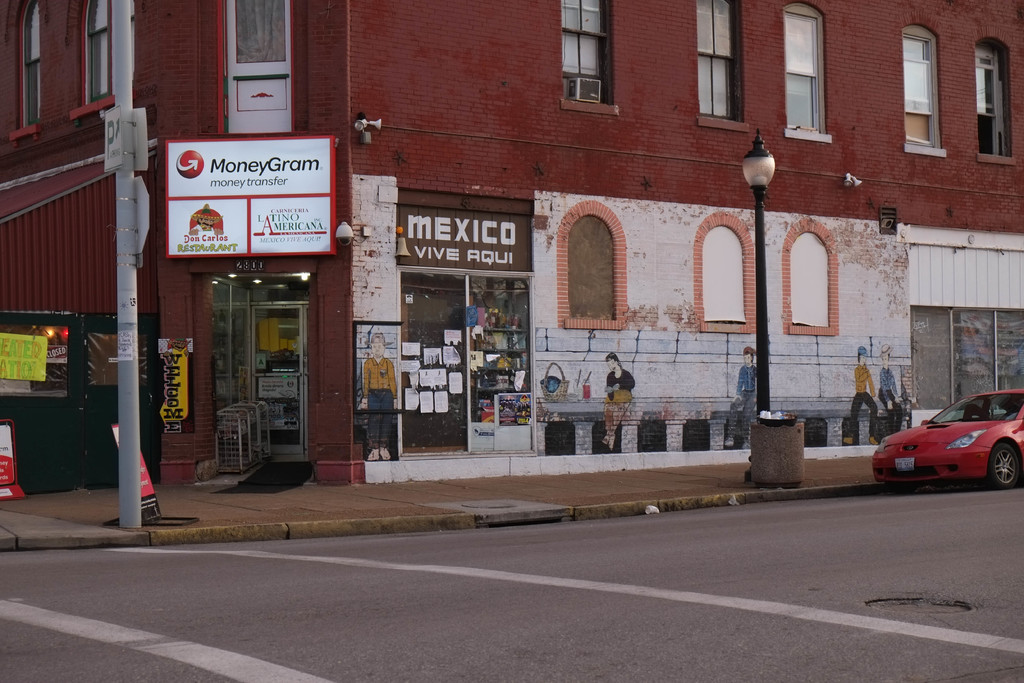Car: (878, 394, 1016, 493)
